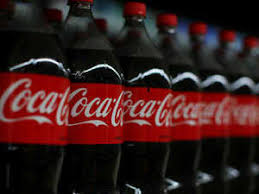coke-bottle-700ml: (120, 1, 177, 194), (65, 1, 119, 191)
